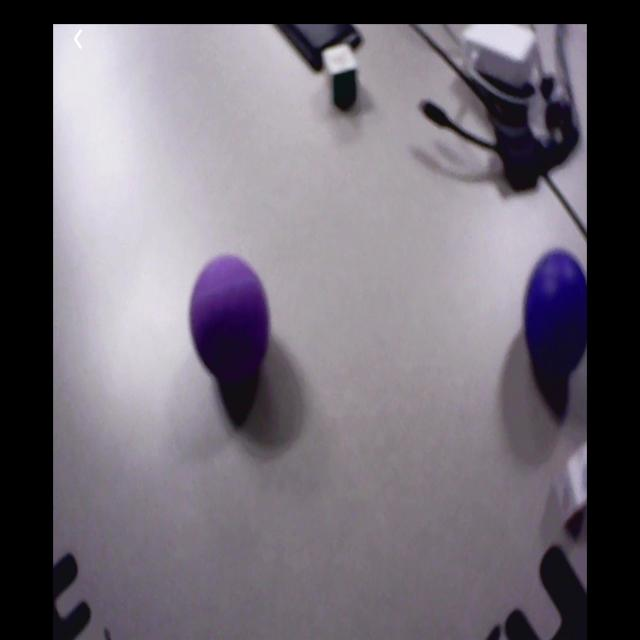ball: (191, 255, 271, 375), (527, 255, 587, 372)
